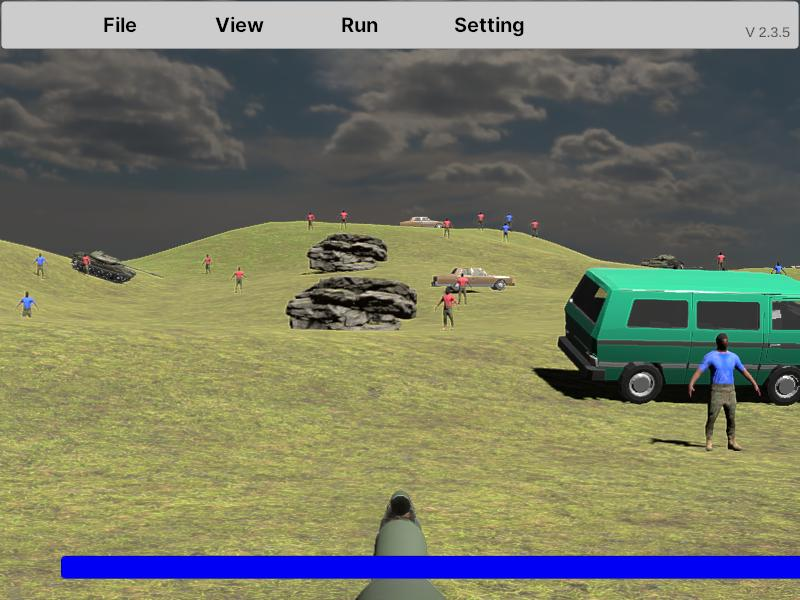Human: (689, 334, 761, 452), (435, 287, 458, 332)
Tank: (70, 250, 162, 285)
car: (561, 269, 800, 404), (431, 266, 515, 293)
